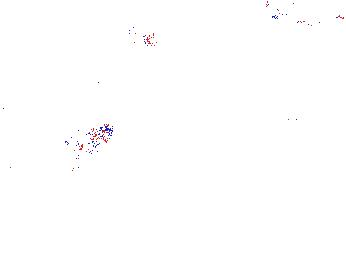X-ray fish: (49, 34, 119, 71)
glassfish: (221, 101, 326, 169)
red belly glassfish: (295, 15, 328, 31)
redtail glassfish: (46, 120, 118, 166), (275, 77, 345, 108), (125, 25, 155, 49)
